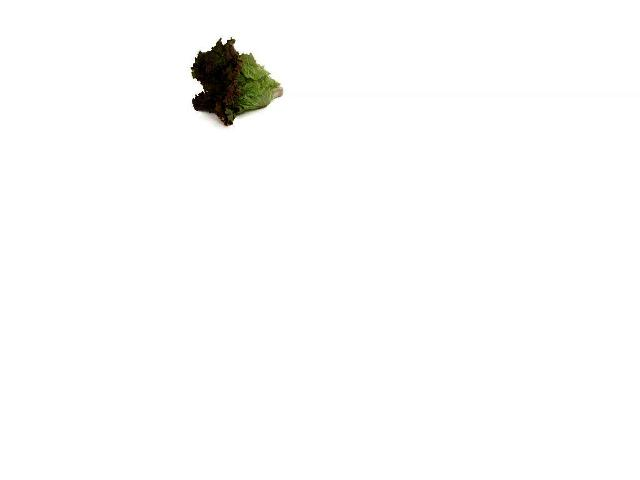lettuce: (179, 34, 285, 133)
